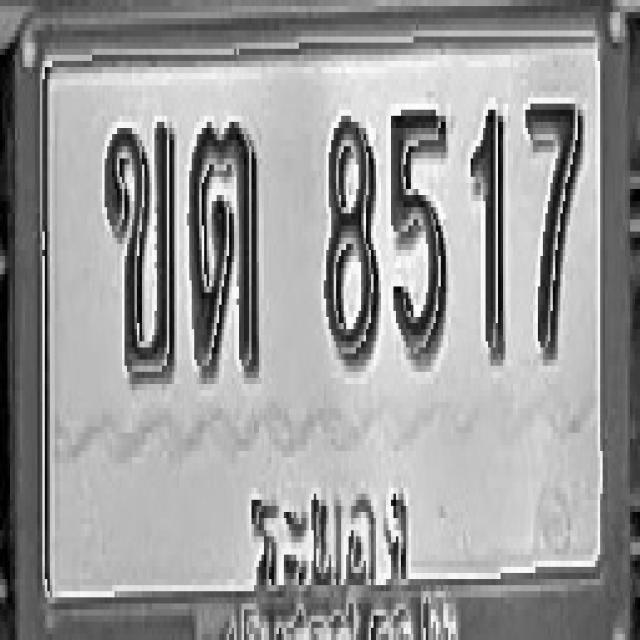1: (469, 104, 507, 366)
11KhorKhai: (104, 116, 176, 384)
30TorTao: (188, 116, 260, 378)
5: (388, 104, 448, 366)
7: (524, 98, 582, 360)
8: (324, 110, 378, 366)
Rayong: (243, 456, 416, 604)
